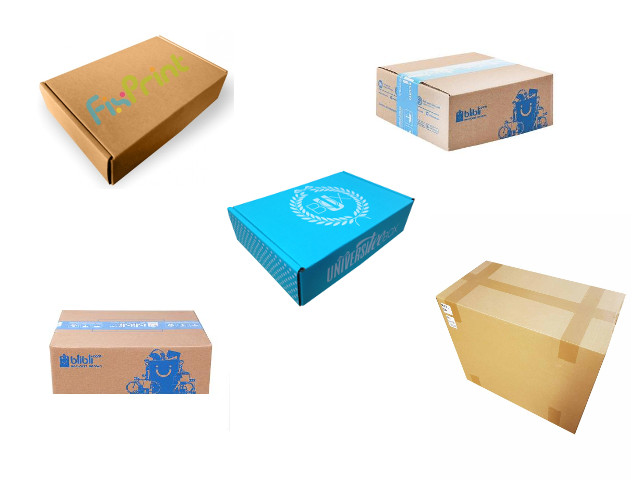cardboard: (438, 261, 624, 432), (41, 36, 227, 186), (228, 171, 416, 306), (378, 52, 554, 151), (49, 309, 211, 393)
